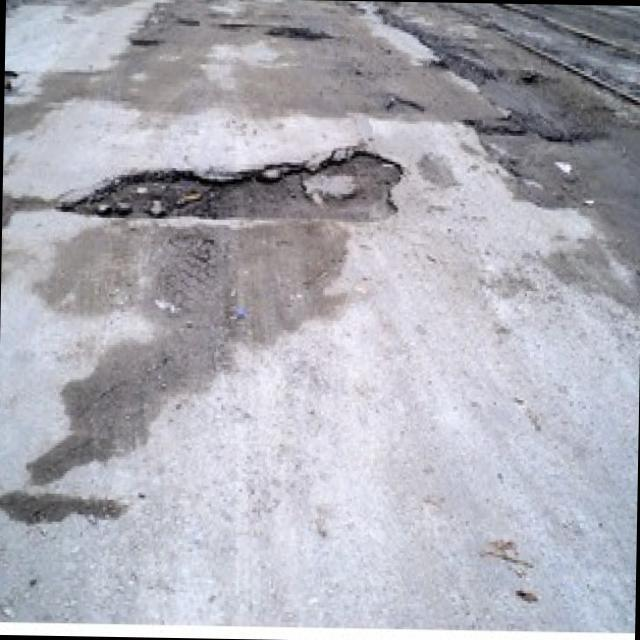Pothole: (61, 142, 407, 222), (387, 95, 422, 114)
